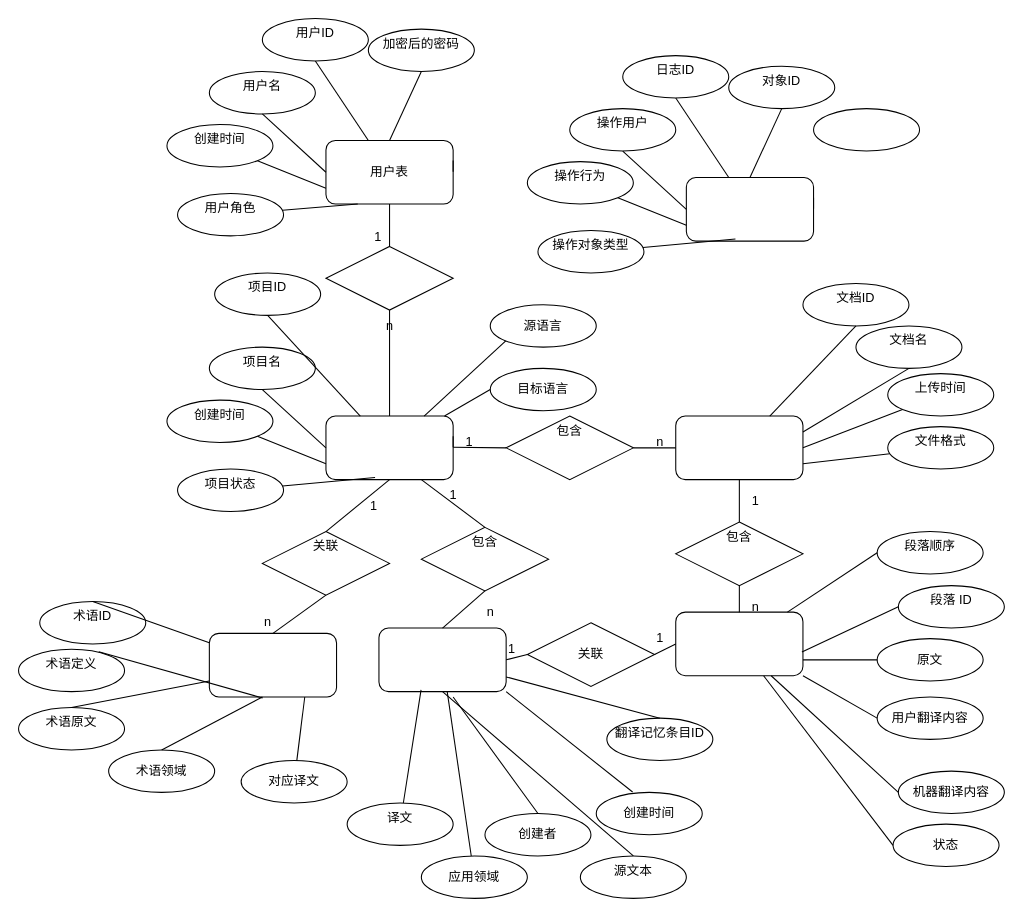
Image size: 1023x917. Some labels were removed from this diagram. Each missing label, with the centre of its shape:
创建: (x=389, y=277)
操作时间: (x=866, y=129)
操作记录表: (x=749, y=208)
文档表: (x=739, y=447)
术语表: (x=272, y=664)
段落表: (x=739, y=643)
翻译记忆库: (x=442, y=659)
翻译项目表: (x=389, y=447)
